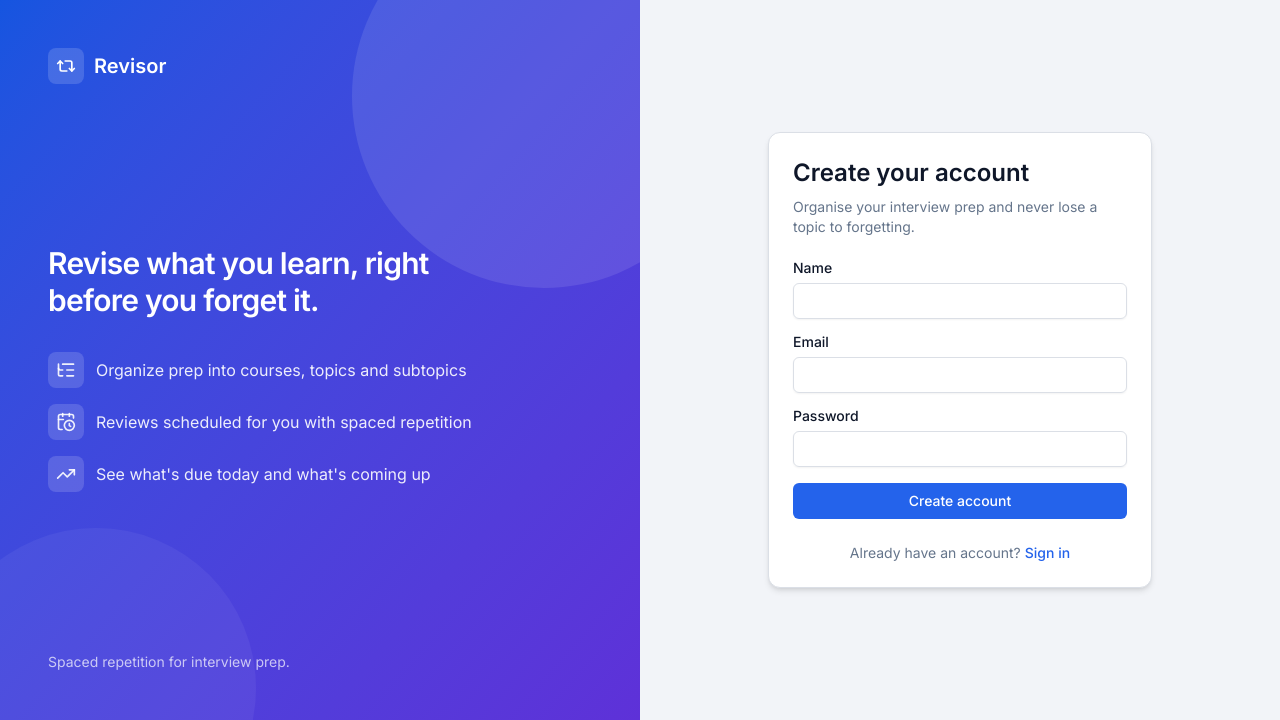
Test: SignupPage › validates every field before sending anything
The image size is (1280, 720).
Click the button "Create account" at (960, 501), box x1=793 y1=483 x2=1127 y2=519
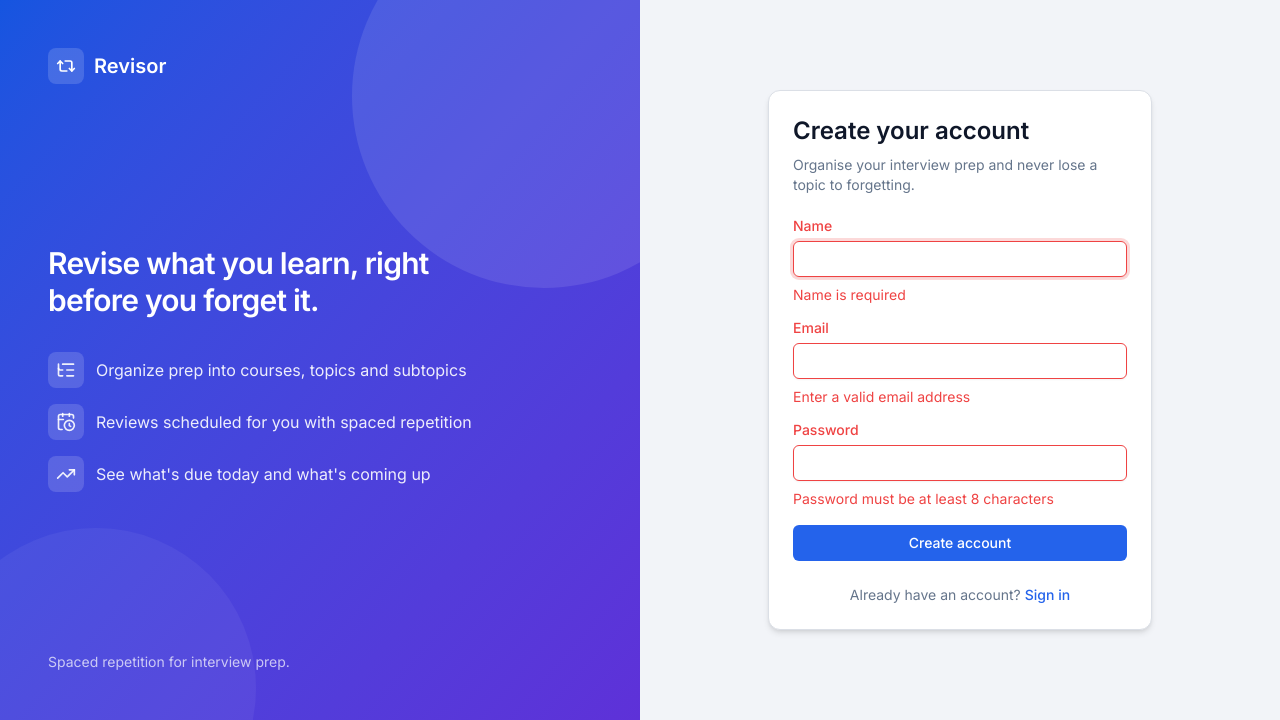
Expected: the text "Name is required" is shown, x1=793 y1=286 x2=906 y2=303
Expected: the text "Enter a valid email address" is shown, x1=793 y1=388 x2=970 y2=405
Expected: the text "Password must be at least 8 characters" is shown, x1=793 y1=490 x2=1054 y2=507
